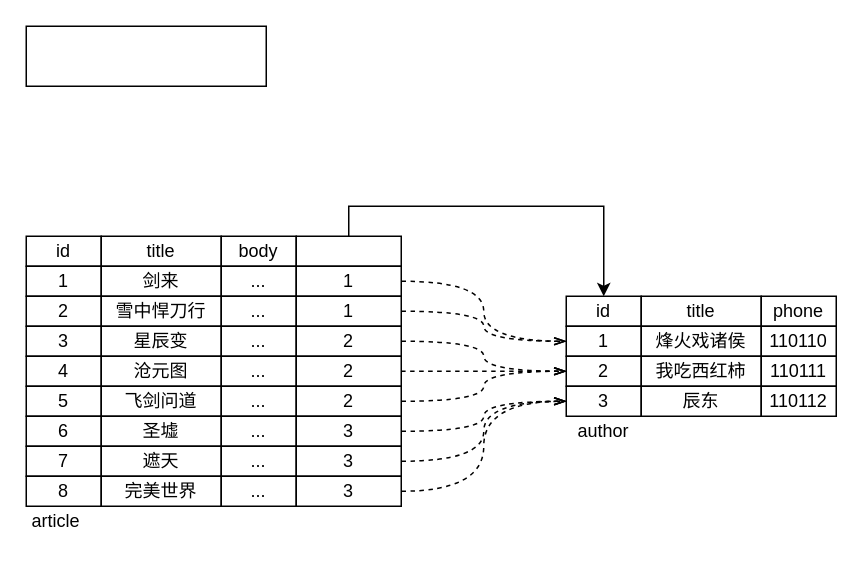
Image size: 863x563. Some labels were removed from this diagram. The centre of each missing label's shape, as x and y in pixels:
"author_id" goes at pixel 348 250.
"一对多模型" goes at pixel 145 55.
